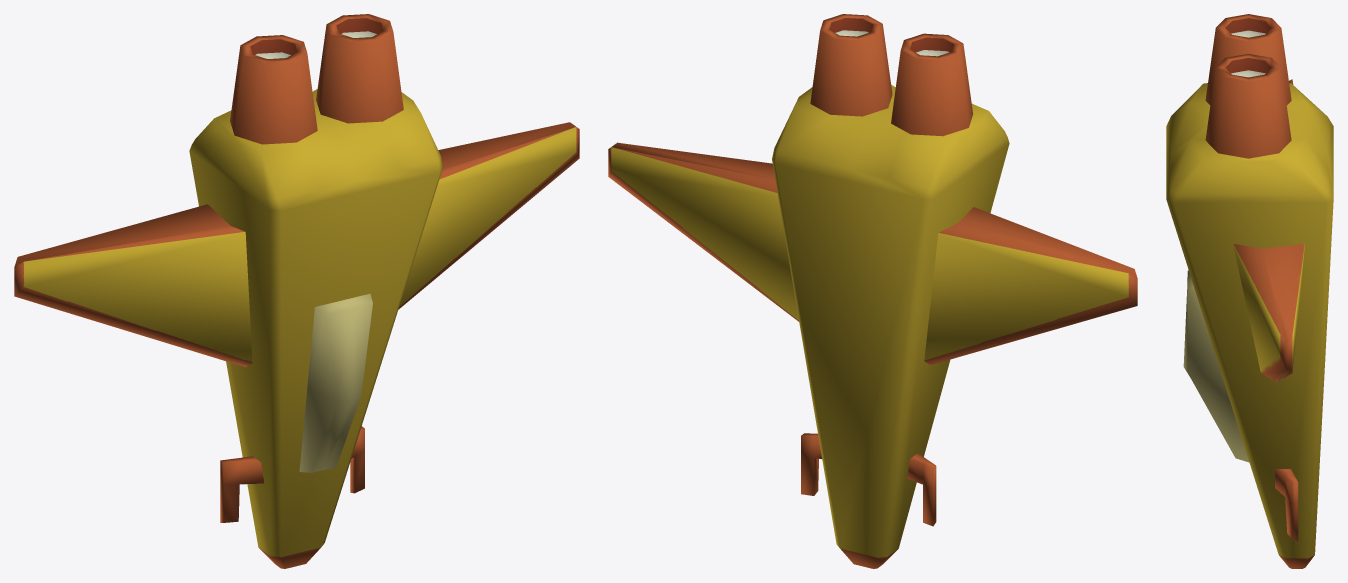
3 renders of one model, left to right at view 1: azimuth 30°, elevation 25°; view 2: azimuth 150°, elevation 25°; view 3: azimuth 270°, elevation 25°, orthographic. The views are drawn at different scales.
Visible parts, largest first — view 1: node_d499a0f4_7458_4c32_95db_74a375bcf30e_mesh0; view 2: node_d499a0f4_7458_4c32_95db_74a375bcf30e_mesh0; view 3: node_d499a0f4_7458_4c32_95db_74a375bcf30e_mesh0.
Part boxes in pixels (x1,y1,x2,y2): node_d499a0f4_7458_4c32_95db_74a375bcf30e_mesh0: [14, 14, 579, 568]; node_d499a0f4_7458_4c32_95db_74a375bcf30e_mesh0: [608, 14, 1137, 568]; node_d499a0f4_7458_4c32_95db_74a375bcf30e_mesh0: [1166, 14, 1333, 568].
Bounding box in the file's own units: 9.33 × 8.57 × 2.52.
1 material, 1 textured.
